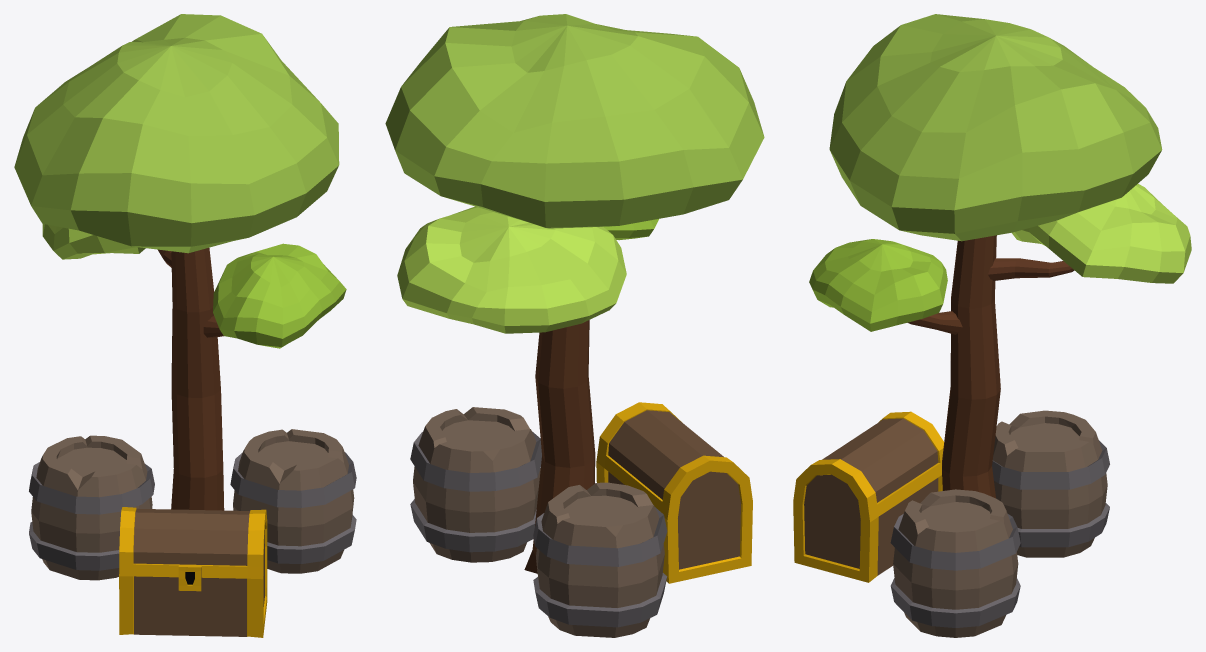
Rendered from BenchyOnBenches.glb.
3 renders of one model, left to right at view 1: azimuth 30°, elevation 25°; view 2: azimuth 150°, elevation 25°; view 3: azimuth 270°, elevation 25°, orthographic. The views are drawn at different scales.
Parts seen in each view (by area): view 1: Tree, Chest, Barrel, Barrel.001; view 2: Tree, Barrel.001, Barrel, Chest; view 3: Tree, Chest, Barrel, Barrel.001.
Boxes of the visible parts, left/top/right/bottom form: Tree: left=14, top=14, right=346, bottom=510; Chest: left=119, top=507, right=267, bottom=637; Barrel: left=230, top=429, right=356, bottom=573; Barrel.001: left=29, top=435, right=154, bottom=580; Tree: left=385, top=14, right=764, bottom=573; Barrel.001: left=533, top=482, right=667, bottom=637; Barrel: left=410, top=407, right=541, bottom=562; Chest: left=596, top=402, right=752, bottom=583; Tree: left=809, top=14, right=1191, bottom=498; Chest: left=793, top=411, right=944, bottom=582; Barrel: left=890, top=489, right=1020, bottom=637; Barrel.001: left=992, top=410, right=1109, bottom=557.
Bounding box in the file's own units: 4.63 × 7.41 × 5.05.
